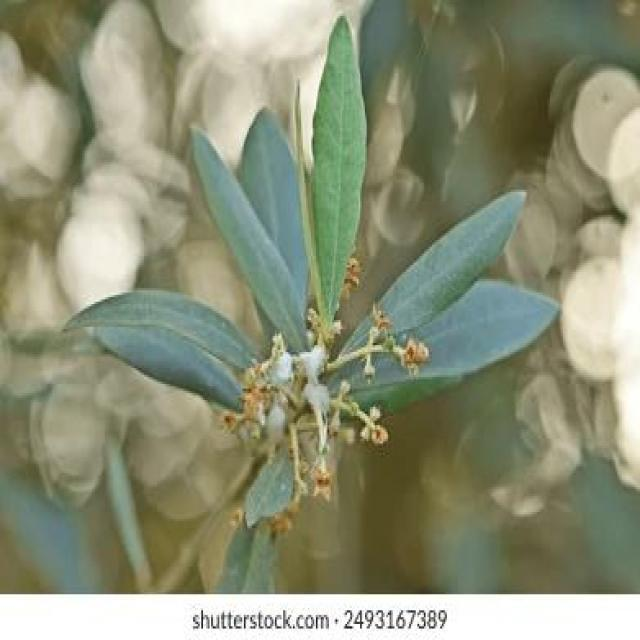Psyllid: (300, 345, 329, 449), (266, 331, 291, 384), (260, 400, 288, 446)
